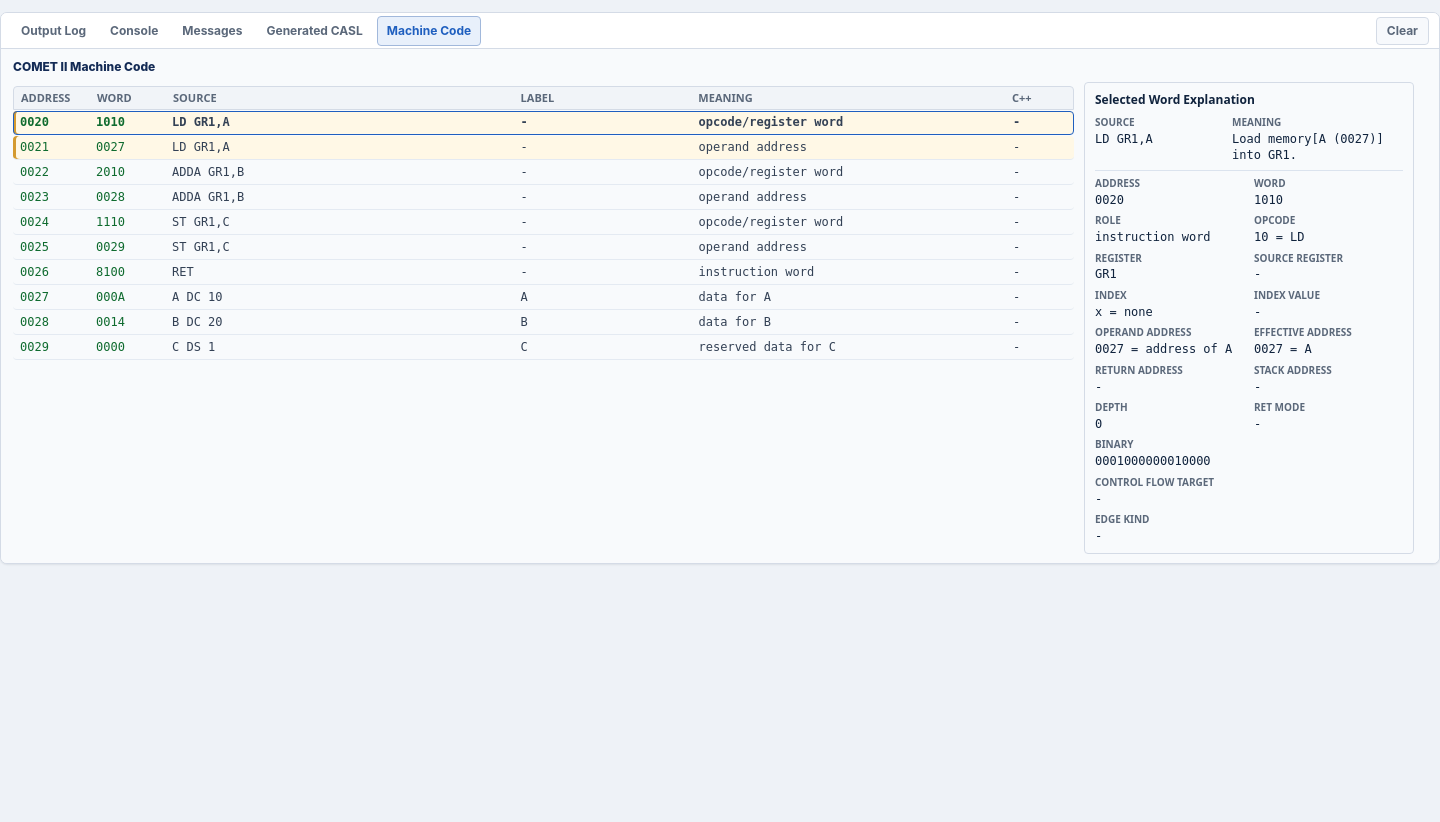
Test case: machine code rows › machine_code_panel_updates_on_row_select
Click the button with test id "machine-code-row-0021". click: click(201, 147)
box: [13,136,1074,160]
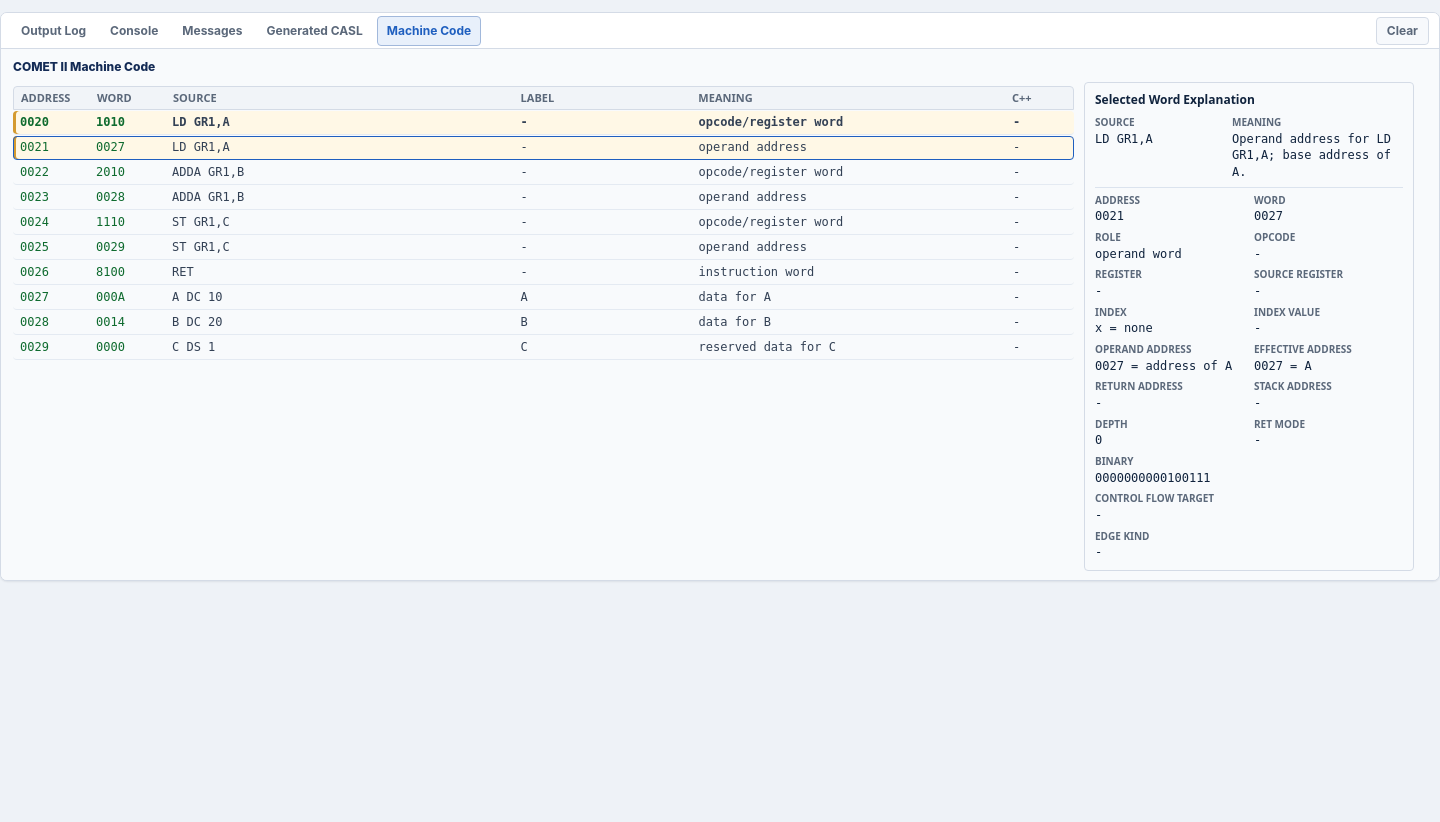
Expected: the element with test id "machine-code-explanation" shows "address of A", [1232,132,1391,179]
Expected: the element with test id "machine-code-explanation" shows "operand word", [1095,247,1182,261]
